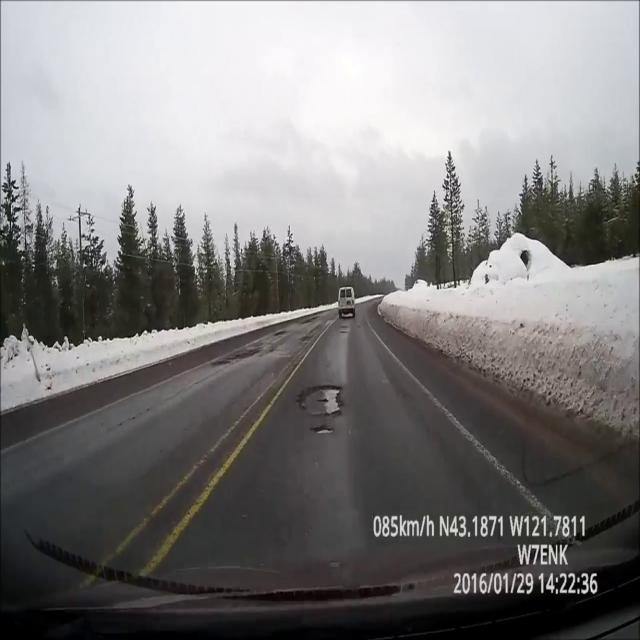Pothole: (295, 384, 343, 418), (212, 346, 261, 371), (308, 425, 336, 435), (301, 314, 321, 326), (273, 329, 288, 337), (300, 335, 314, 343), (339, 326, 350, 329), (340, 330, 348, 334)
